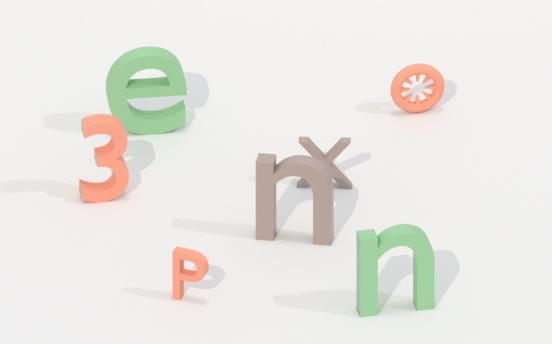3: (76, 111, 132, 208)
e: (100, 40, 193, 138)
n: (250, 146, 341, 253), (354, 225, 438, 319)
p: (167, 242, 212, 308)
tron: (392, 58, 445, 115)
x: (297, 132, 354, 194)
